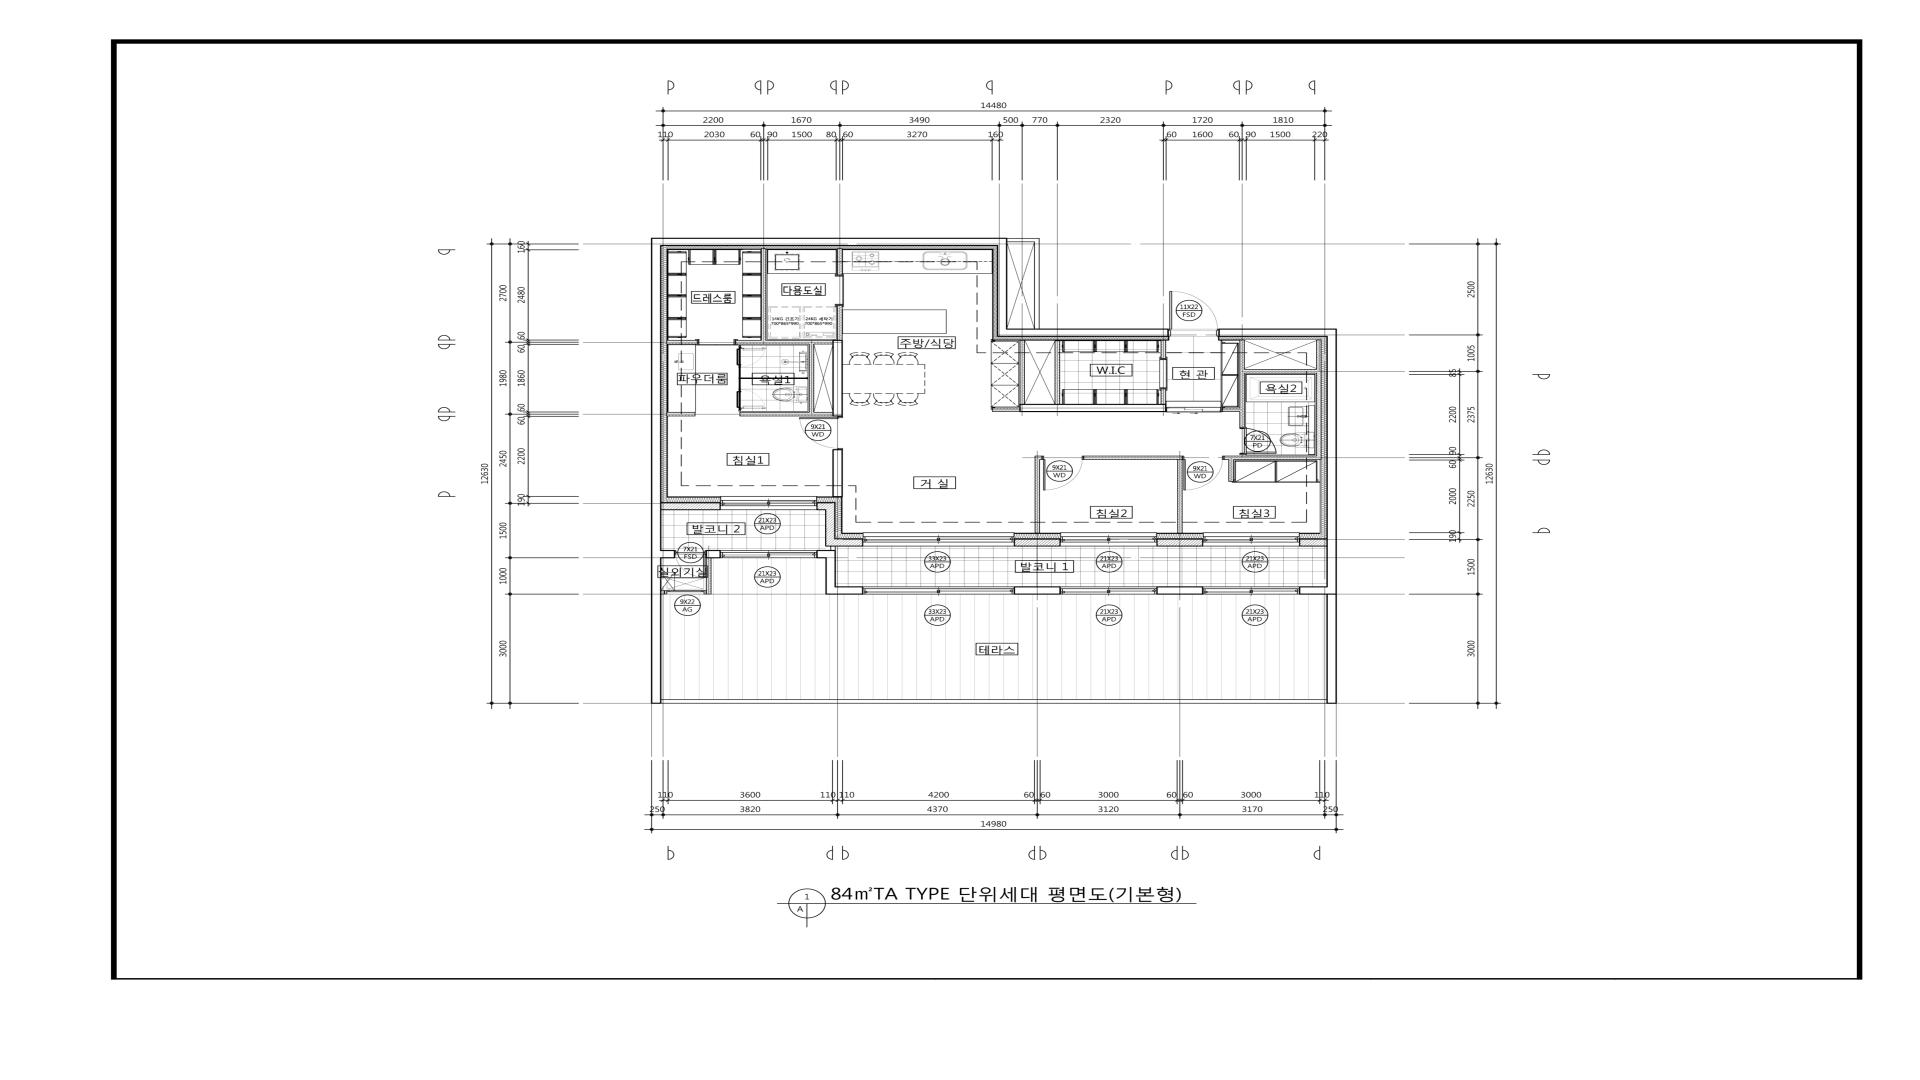door: (1168, 290, 1218, 336), (1182, 456, 1224, 491), (799, 417, 843, 450), (1042, 456, 1083, 491), (1240, 427, 1276, 455), (674, 550, 707, 578), (1166, 407, 1221, 413), (835, 274, 844, 306), (696, 339, 736, 345)
wall: (651, 237, 662, 595), (661, 237, 1007, 247), (1327, 336, 1337, 587), (1019, 404, 1166, 413), (1007, 328, 1168, 336), (1218, 328, 1337, 338), (997, 247, 1007, 336), (832, 340, 843, 417), (1316, 340, 1321, 456), (1083, 455, 1183, 460), (1035, 456, 1042, 533), (832, 450, 843, 497), (761, 248, 766, 340), (1240, 340, 1245, 427), (662, 502, 720, 510), (1034, 243, 1039, 328), (1014, 585, 1060, 595), (1178, 459, 1183, 533), (1224, 456, 1321, 460), (736, 340, 832, 344), (1156, 587, 1204, 595), (1014, 538, 1060, 546), (740, 413, 832, 417), (808, 344, 814, 413), (1055, 340, 1060, 404), (1019, 340, 1025, 404), (825, 558, 836, 587), (1156, 539, 1203, 546), (825, 587, 864, 595), (1299, 587, 1337, 595), (825, 510, 836, 538), (825, 538, 862, 546), (1245, 369, 1316, 373), (1299, 538, 1327, 546), (837, 306, 843, 340), (1007, 237, 1039, 243), (816, 502, 836, 510), (816, 550, 836, 558), (667, 411, 695, 417), (661, 550, 675, 559), (837, 249, 843, 274), (667, 340, 698, 344), (705, 550, 720, 558), (1229, 460, 1234, 481), (993, 407, 1019, 411), (1160, 340, 1166, 359), (1160, 389, 1166, 404), (1222, 407, 1240, 411)
window: (862, 533, 1015, 546), (720, 496, 818, 510), (1203, 533, 1300, 546), (1060, 533, 1156, 546), (864, 587, 1014, 595), (720, 550, 816, 558), (1203, 587, 1299, 595), (1062, 587, 1156, 595), (663, 591, 705, 595)
